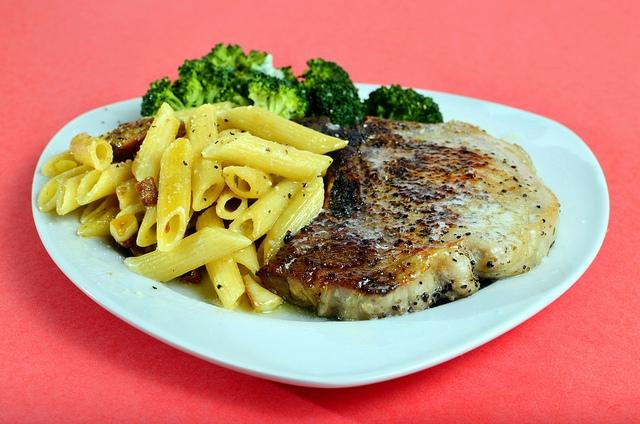broccoli: (298, 58, 366, 126), (362, 84, 444, 124), (248, 74, 310, 118), (140, 76, 186, 118), (202, 68, 226, 104), (237, 49, 268, 68)
